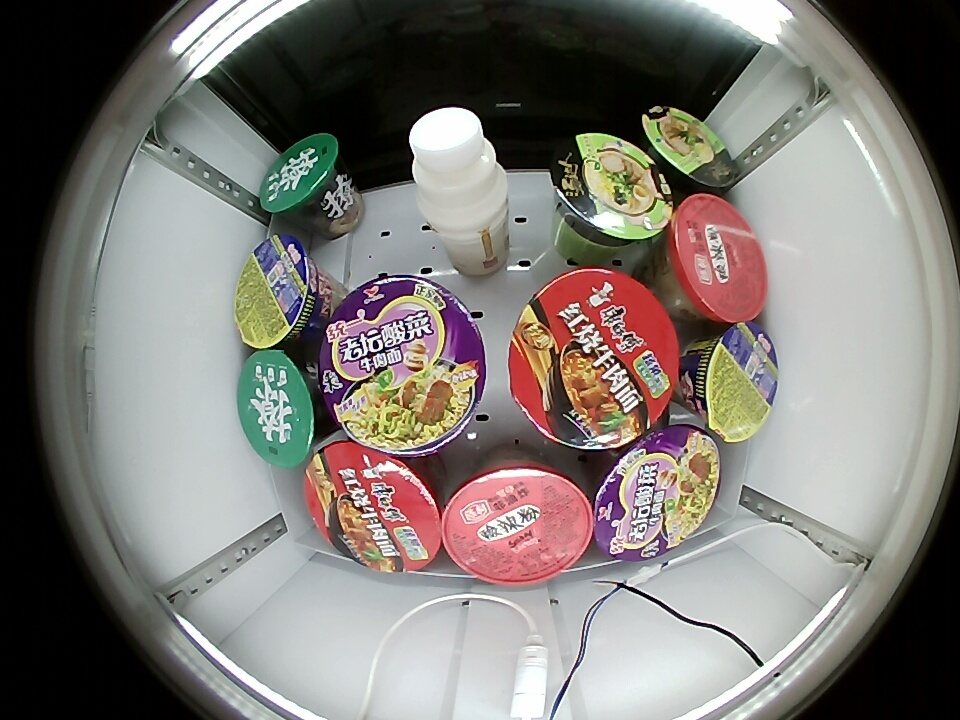heweidao: (681, 323, 780, 442), (234, 235, 326, 350)
hongshaoniurou: (508, 267, 680, 451), (305, 442, 444, 573)
laotansuancai: (318, 274, 487, 458), (590, 425, 722, 562)
liaomian: (237, 350, 324, 467), (259, 134, 347, 218)
suanlafen: (441, 454, 593, 587), (649, 194, 767, 325)
tangdaren: (550, 133, 674, 250), (640, 106, 737, 197)
yingyangkuaixian: (408, 108, 510, 230)
